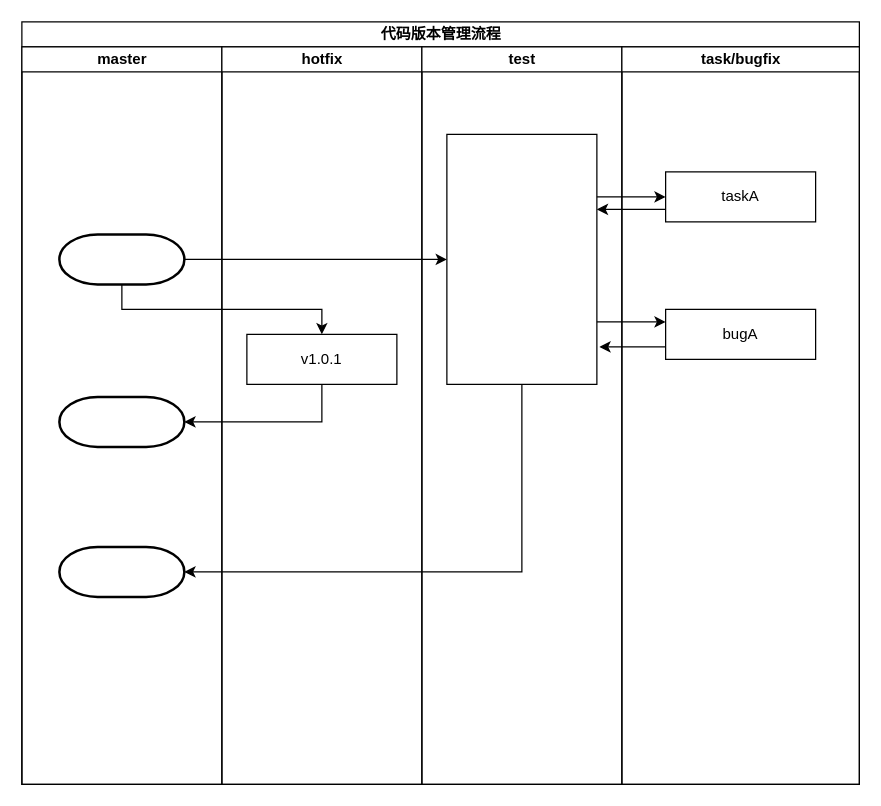
This 881x806 diagram has some shape labels left out. Each missing label, with the centre of its shape:
tag (v1.0.0): pixel 121 258
tag (v1.0.1): pixel 121 421
tag (v1.1.0): pixel 121 571
v1.1.0: pixel 521 258
